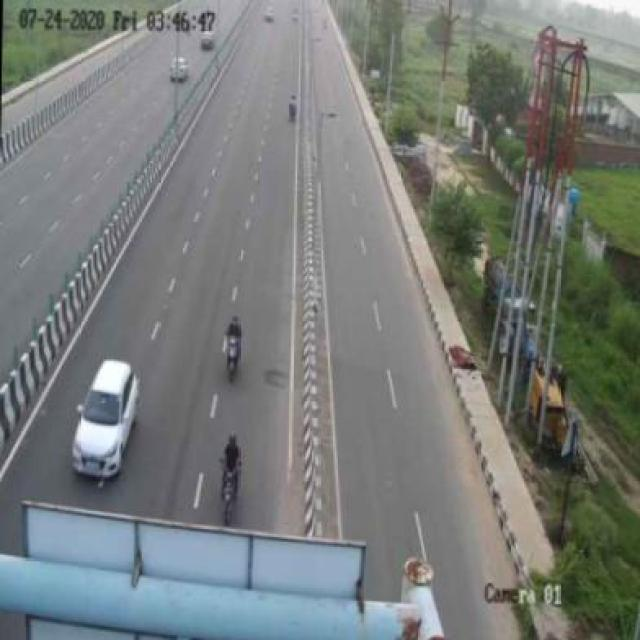car: (68, 351, 140, 482)
